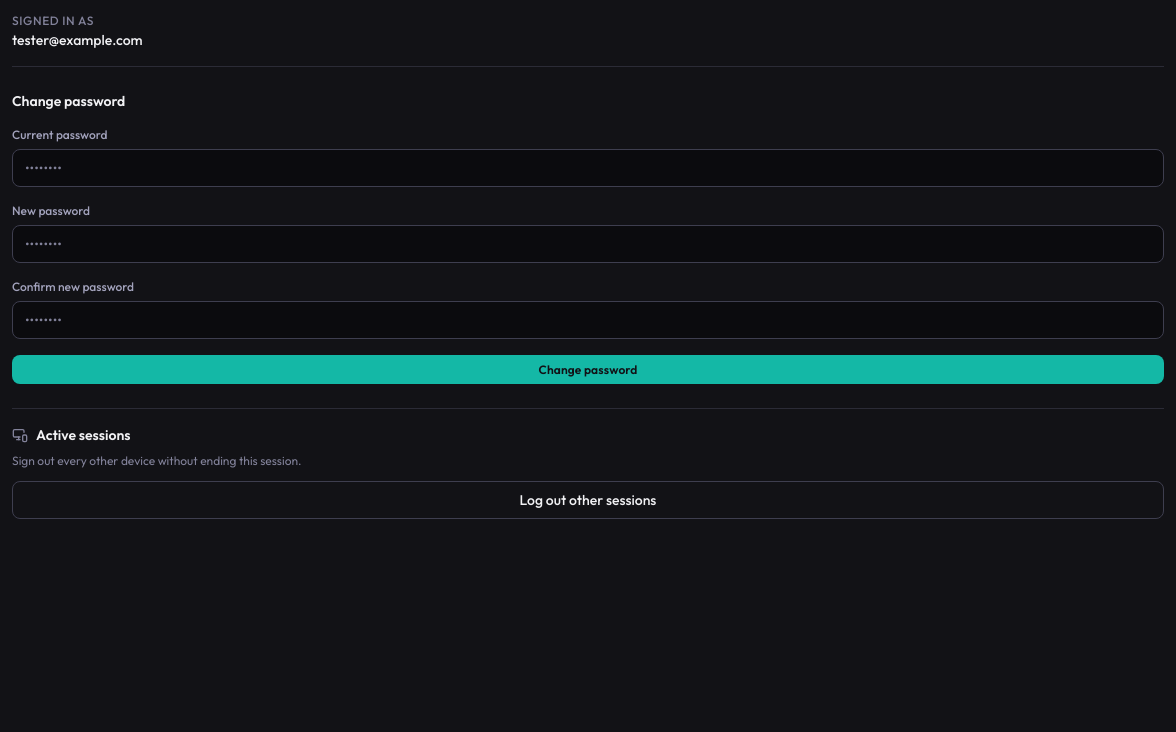
Test: AccountSection › shows the server error detail when the current password is wrong (422)
In the password field labelled "Current password": {"x": 588, "y": 168} [12,149,1164,187], type "wrong-current"
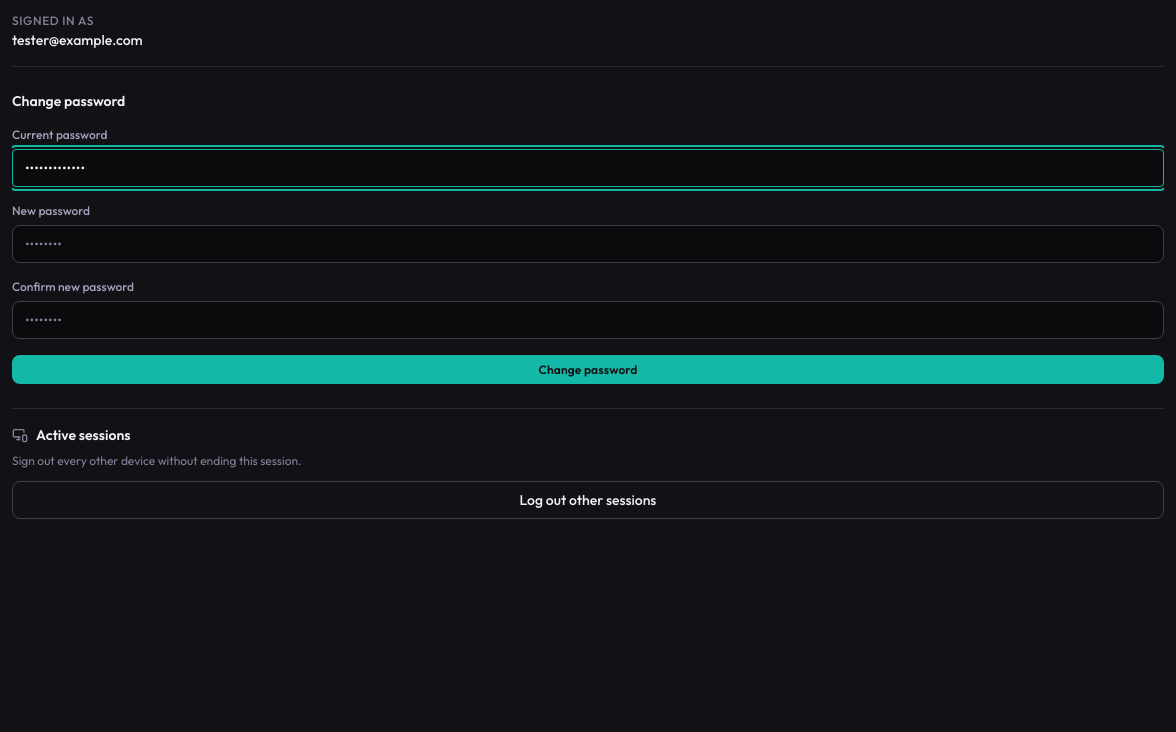
In the password field labelled "New password": {"x": 588, "y": 244} [12,225,1164,263], type "new-secret-456"
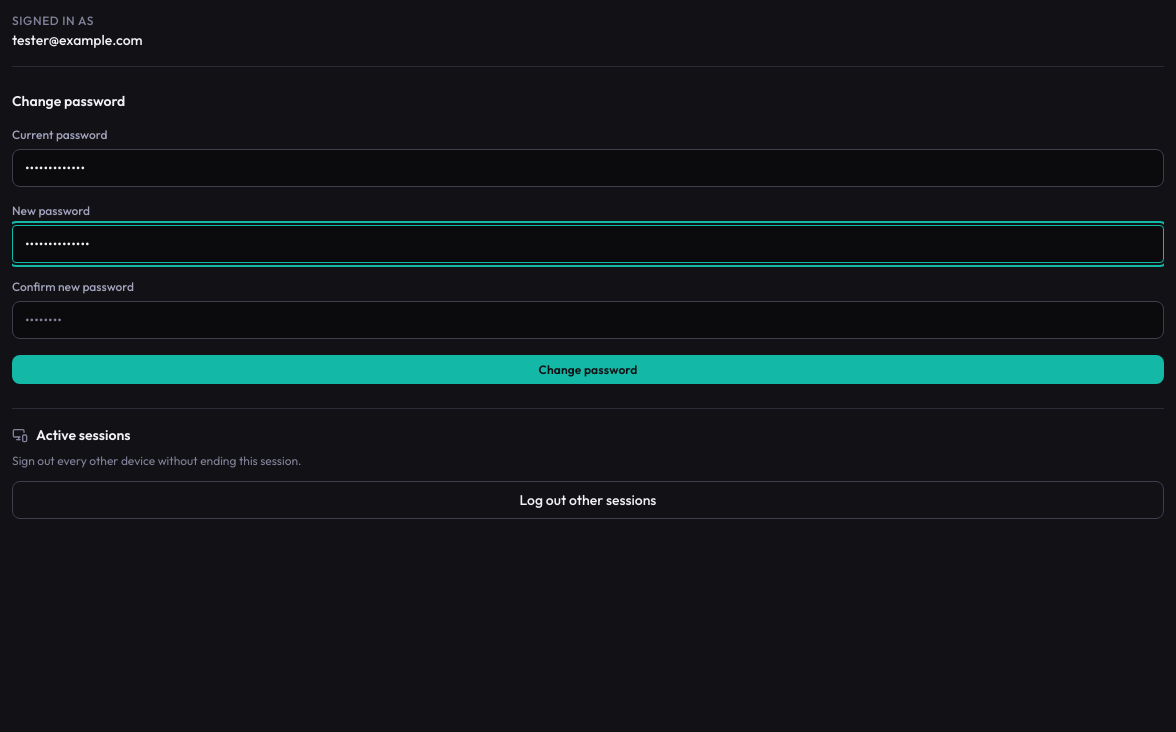
In the password field labelled "Confirm new password": {"x": 588, "y": 320} [12,301,1164,339], type "new-secret-456"
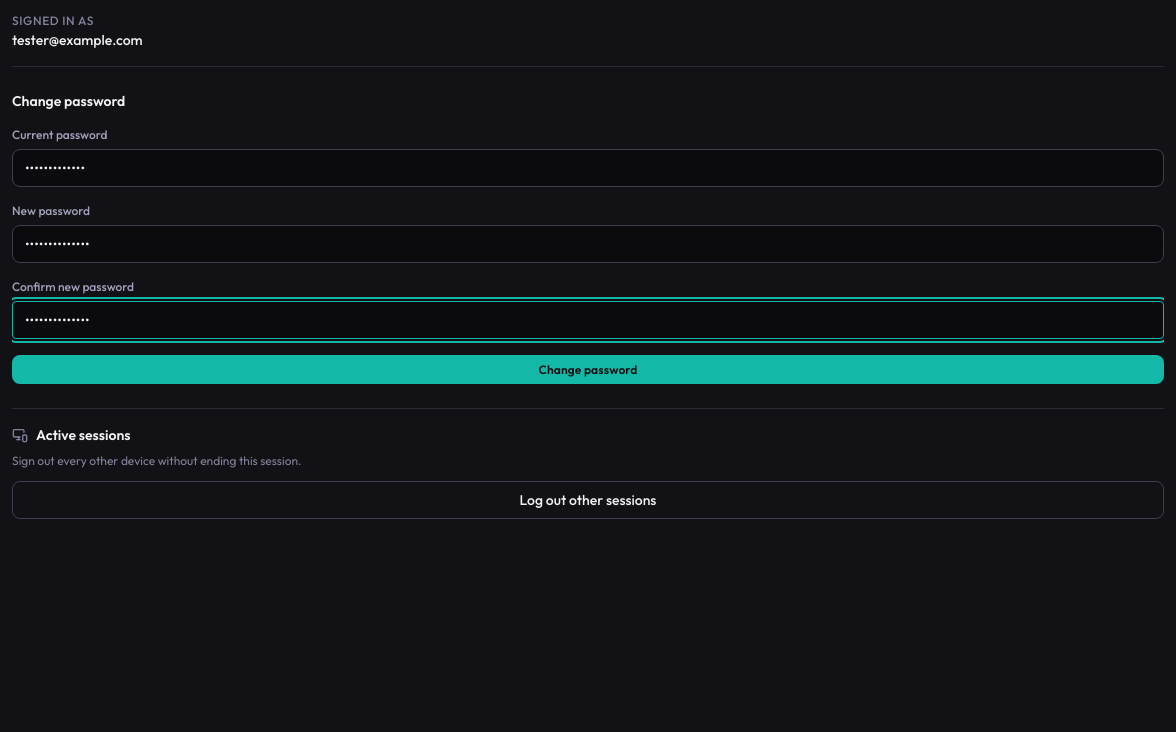
Click the button "Change password": {"x": 588, "y": 370} [12,355,1164,384]
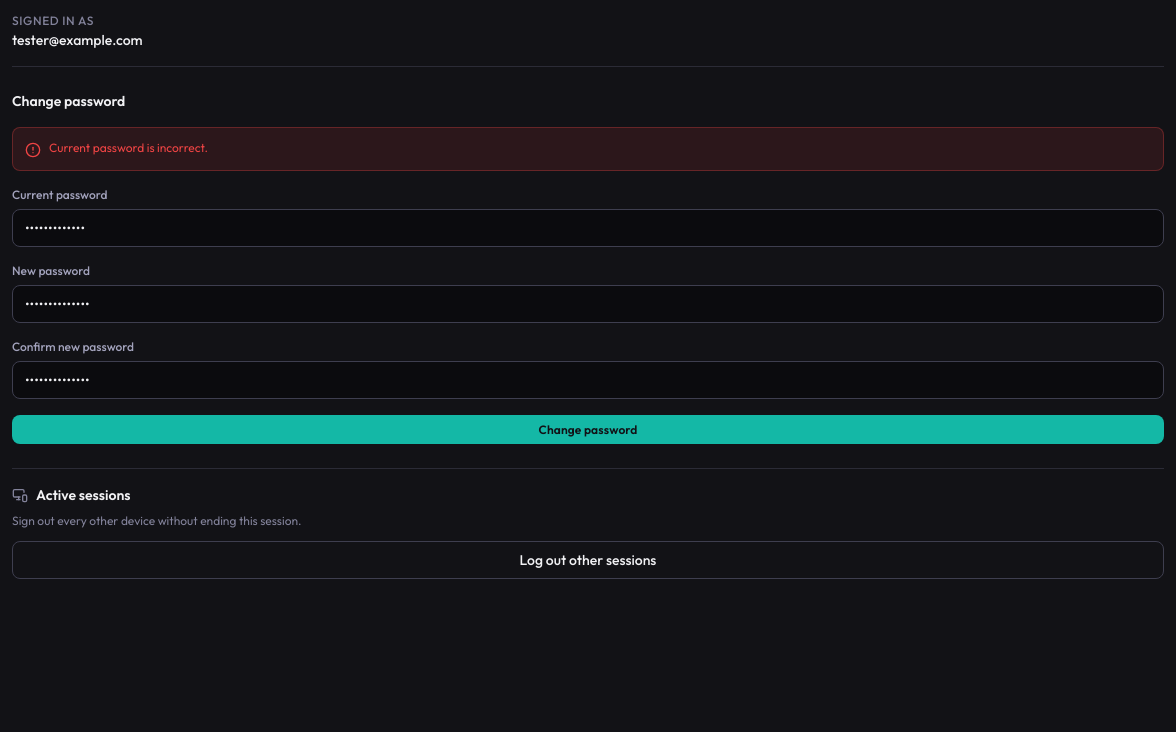
Result: the text "Current password is incorrect." is shown at [49,140,208,156]
